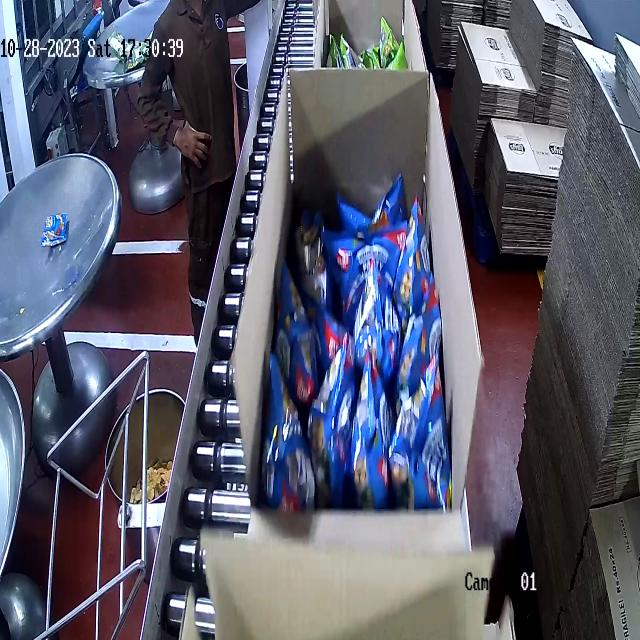PAPRIKA: (277, 171, 459, 527)
